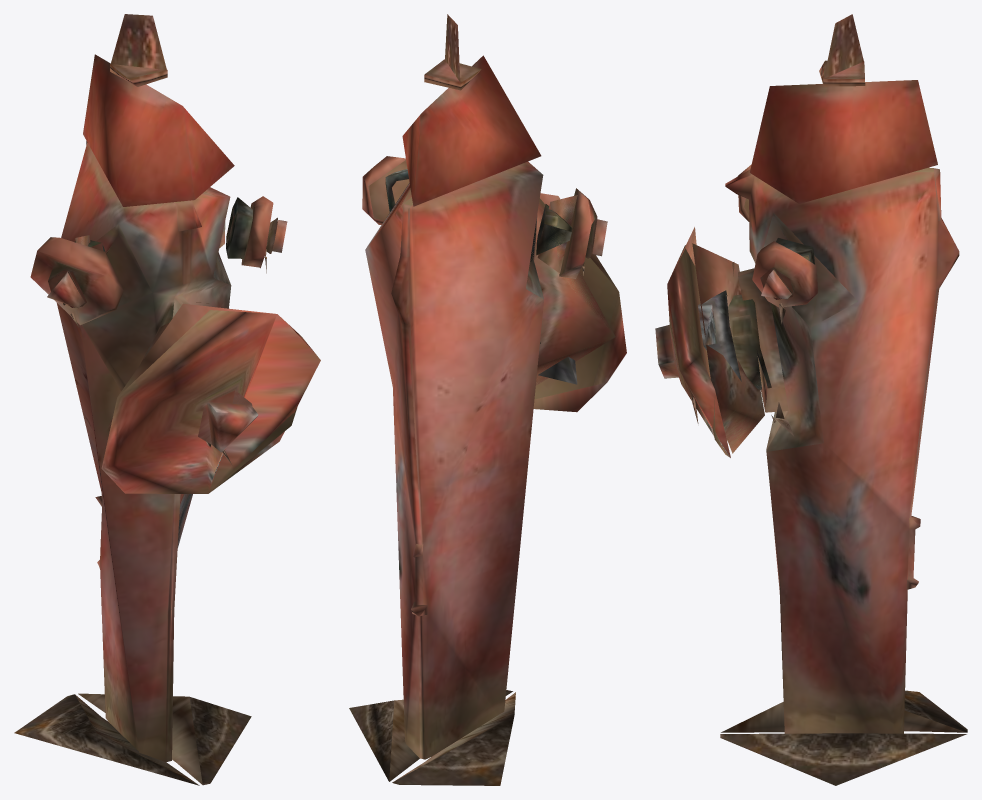
Rendered from hydrant.glb.
The picture shows the model from 3 angles, left to right: view 1: azimuth 30°, elevation 25°; view 2: azimuth 150°, elevation 25°; view 3: azimuth 270°, elevation 25°; orthographic projection.
Parts seen in each view (by area): view 1: fire_hydrant_aged; view 2: fire_hydrant_aged; view 3: fire_hydrant_aged.
Part boxes in pixels (<box>): fire_hydrant_aged: <box>14,14,320,785</box>; fire_hydrant_aged: <box>349,14,626,785</box>; fire_hydrant_aged: <box>655,14,967,785</box>.
Size of the model in its own units: 0.2728 by 0.7992 by 0.3163.
1 material, 1 textured.
